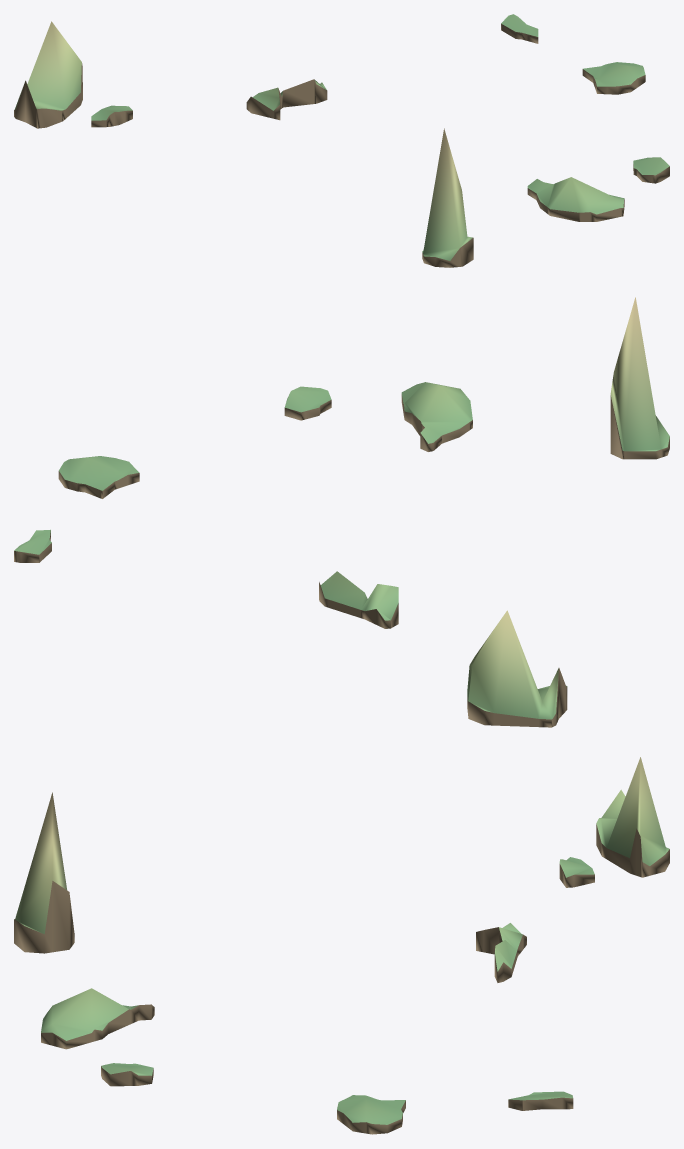
File: CPV.glb
3 renders of one model, top to bottom at view 1: azimuth 30°, elevation 25°; view 2: azimuth 150°, elevation 25°; view 3: azimuth 270°, elevation 25°, orthographic. The views are drawn at different scales.
Parts seen in each view (by area): view 1: CPV; view 2: CPV; view 3: CPV.
Part boxes in pixels (x1,y1,x2,y2): CPV: [14, 14, 669, 267]; CPV: [14, 297, 669, 727]; CPV: [14, 757, 669, 1134].
Bounding box in the file's own units: 1.43 × 0.338 × 1.34.
